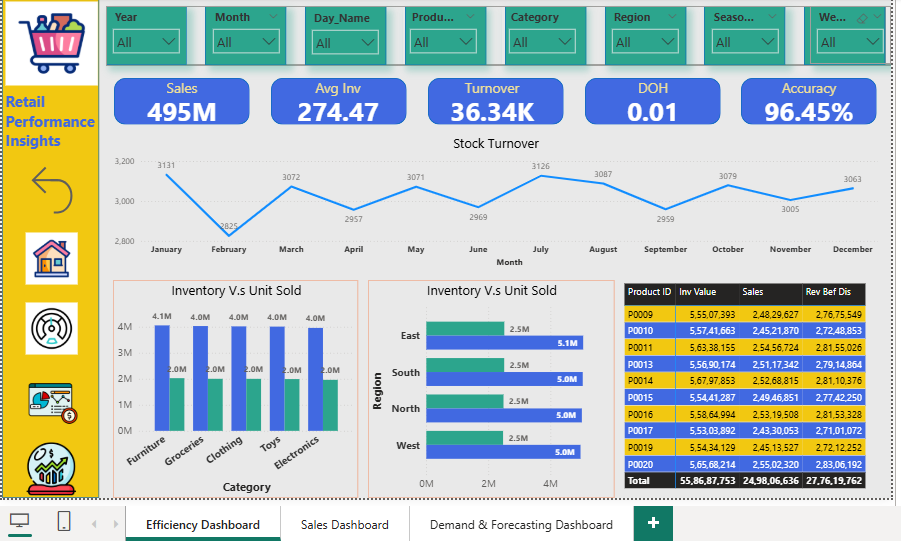

Layout of this report page (visuals, bound fields, positions):
{"tool":"powerbi","page":{"name":"Efficiency Dashboard","canvas":[1280,720],"ordinal":0},"visuals":[{"type":"shape","box":[0,0,139.9,720],"z":0,"group":"g3"},{"type":"shape","box":[149.4,11.6,116.2,84.6],"z":0,"group":"g4"},{"type":"group","id":"g1","title":"KPI-E","box":[161.2,115.2,1098.8,67.7],"z":0},{"type":"card","title":"Sales","fields":{"Values":["Measure_Table.Total Sales"]},"box":[161.2,115.2,195.8,67.7],"z":0,"group":"g6"},{"type":"shape","box":[161.2,115.6,195.5,67.1],"z":0,"group":"g5"},{"type":"shape","box":[292.4,11.7,117,85.2],"z":1000,"group":"g4"},{"type":"card","title":"Avg Inv","fields":{"Values":["Measure_Table.Average Inventory Level"]},"box":[385.8,115.2,195.8,67.7],"z":1000,"group":"g6"},{"type":"shape","box":[386.7,115.6,195.5,67.1],"z":1000,"group":"g5"},{"type":"lineChart","title":"Stock Turnover","fields":{"Category":["Calender.Date.Variation.Date Hierarchy.Month"],"Y":["Measure_Table.Stock Turnover"]},"box":[156.4,195.5,1109.1,196.9],"z":1000},{"type":"image","box":[0,332.2,142.2,84.9],"z":1000,"group":"g3"},{"type":"shape","box":[436.2,11.7,117,85.2],"z":2000,"group":"g4"},{"type":"card","title":"Turnover","fields":{"Values":["Measure_Table.Stock Turnover Ratio"]},"box":[607.6,115.2,195.8,67.7],"z":2000,"group":"g6"},{"type":"shape","box":[613.6,115.6,195.5,67.1],"z":2000,"group":"g5"},{"type":"textbox","box":[0,130.2,143.8,104.9],"z":2000,"group":"g3"},{"type":"clusteredColumnChart","title":"Inventory V.s Unit Sold","fields":{"Category":["retail_store_inventory.Category"],"Y":["Sum(retail_store_inventory.Inventory Level)","Sum(retail_store_inventory.Units Sold)"]},"box":[159.3,405.4,353.3,314.2],"z":2000},{"type":"image","box":[0,0,142.9,131.2],"z":3000,"group":"g3"},{"type":"shape","box":[579.9,11.7,117,85.2],"z":3000,"group":"g4"},{"type":"card","title":"DOH","fields":{"Values":["Measure_Table.Days of Inventory on Hand"]},"box":[839.4,115.2,195.8,67.7],"z":3000,"group":"g6"},{"type":"shape","box":[839,115.6,195.5,67.1],"z":3000,"group":"g5"},{"type":"clusteredBarChart","title":"Inventory V.s Unit Sold","fields":{"Category":["retail_store_inventory.Region"],"Y":["Sum(retail_store_inventory.Units Sold)","Sum(retail_store_inventory.Inventory Level)"]},"box":[527.1,405.4,354.8,314.2],"z":3000},{"type":"shape","box":[723.7,11.7,117,85.2],"z":4000,"group":"g4"},{"type":"card","title":"Accuracy","fields":{"Values":["Measure_Table.Forecast Accuracy"]},"box":[1064.1,115.2,195.8,67.7],"z":4000,"group":"g6"},{"type":"shape","box":[1064.5,115.6,195.5,67.1],"z":4000,"group":"g5"},{"type":"pivotTable","fields":{"Rows":["retail_store_inventory.Product ID"],"Values":["Measure_Table.Inventory Value","Measure_Table.Total Sales","Measure_Table.Revenue Before Discount"]},"box":[891.9,405.4,369.2,314.2],"z":4000},{"type":"image","box":[0,634.5,142.9,85.5],"z":4000,"group":"g3"},{"type":"group","id":"g2","title":"Slicer-S","box":[149.1,11.6,1130.9,85.4],"z":5000},{"type":"shape","box":[867.5,11.7,117,85.2],"z":5000,"group":"g4"},{"type":"image","box":[0,541.8,147.2,84.9],"z":5000,"group":"g3"},{"type":"group","id":"g3","title":"Side Bar-S","box":[0,0,171.5,720],"z":6000},{"type":"shape","box":[1011.2,11.7,117,85.2],"z":6000,"group":"g4"},{"type":"image","box":[0,433.4,142.2,84.9],"z":6000,"group":"g3"},{"type":"group","id":"g4","title":"Slicer-Shape-S","box":[149.4,11.6,1122.7,85.8],"z":7000,"group":"g2"},{"type":"shape","box":[1155,11.7,117,85.2],"z":7000,"group":"g4"},{"type":"group","id":"g5","title":"KPI-Shape-E","box":[161.2,115.6,1098.8,67.1],"z":7000,"group":"g1"},{"type":"actionButton","box":[30,235.2,141.5,84.1],"z":7000,"group":"g3"},{"type":"slicer","fields":{"Values":["Calender.Year"]},"box":[149.1,11.6,115.6,84.2],"z":8000,"group":"g7"},{"type":"group","id":"g6","title":"KPI-Card-E","box":[161.2,115.2,1098.7,67.7],"z":8000,"group":"g1"},{"type":"slicer","fields":{"Values":["Calender.Day_Name"]},"box":[435.5,13.4,116.2,84],"z":9000,"group":"g7"},{"type":"slicer","fields":{"Values":["Calender.Month"]},"box":[292.5,11.6,116.2,84],"z":10000,"group":"g7"},{"type":"slicer","fields":{"Values":["retail_store_inventory.Weather Condition"]},"box":[1163.1,11.6,116.2,84],"z":11000,"group":"g7"},{"type":"slicer","fields":{"Values":["retail_store_inventory.Product ID"]},"box":[576.7,11.6,116.2,84],"z":12000,"group":"g7"},{"type":"slicer","fields":{"Values":["retail_store_inventory.Category"]},"box":[719.7,11.6,116.2,84],"z":13000,"group":"g7"},{"type":"slicer","fields":{"Values":["retail_store_inventory.Region"]},"box":[868.1,11.6,116.2,84],"z":14000,"group":"g7"},{"type":"slicer","fields":{"Values":["retail_store_inventory.Seasonality"]},"box":[1011.1,11.6,116.2,84],"z":15000,"group":"g7"},{"type":"group","id":"g7","title":"Slicer-Slicer-S","box":[149.1,11.6,1130.2,85.8],"z":15001,"group":"g2"}]}

Visuals, with their boxes on the page's 1280x720 design canvas (x1, y1, x2, y2). These are canvas units, not pixel positions in the 901x541 screenshot, which may show the page scaled, cropped or inside an application window:
shape: l=0, t=0, r=140, b=720
shape: l=149, t=12, r=266, b=96
"KPI-E" group: l=161, t=115, r=1260, b=183
"Sales" card: l=161, t=115, r=357, b=183
shape: l=161, t=116, r=357, b=183
shape: l=292, t=12, r=409, b=97
"Avg Inv" card: l=386, t=115, r=582, b=183
shape: l=387, t=116, r=582, b=183
"Stock Turnover" lineChart: l=156, t=196, r=1266, b=392
image: l=0, t=332, r=142, b=417
shape: l=436, t=12, r=553, b=97
"Turnover" card: l=608, t=115, r=803, b=183
shape: l=614, t=116, r=809, b=183
textbox: l=0, t=130, r=144, b=235
"Inventory V.s Unit Sold" clusteredColumnChart: l=159, t=405, r=513, b=720
image: l=0, t=0, r=143, b=131
shape: l=580, t=12, r=697, b=97
"DOH" card: l=839, t=115, r=1035, b=183
shape: l=839, t=116, r=1034, b=183
"Inventory V.s Unit Sold" clusteredBarChart: l=527, t=405, r=882, b=720
shape: l=724, t=12, r=841, b=97
"Accuracy" card: l=1064, t=115, r=1260, b=183
shape: l=1064, t=116, r=1260, b=183
pivotTable - retail_store_inventory.Product ID x Measure_Table.Inventory Value: l=892, t=405, r=1261, b=720
image: l=0, t=634, r=143, b=720
"Slicer-S" group: l=149, t=12, r=1280, b=97
shape: l=868, t=12, r=984, b=97
image: l=0, t=542, r=147, b=627
"Side Bar-S" group: l=0, t=0, r=172, b=720
shape: l=1011, t=12, r=1128, b=97
image: l=0, t=433, r=142, b=518
"Slicer-Shape-S" group: l=149, t=12, r=1272, b=97
shape: l=1155, t=12, r=1272, b=97
"KPI-Shape-E" group: l=161, t=116, r=1260, b=183
actionButton: l=30, t=235, r=172, b=319
slicer - Calender.Year: l=149, t=12, r=265, b=96
"KPI-Card-E" group: l=161, t=115, r=1260, b=183
slicer - Calender.Day_Name: l=436, t=13, r=552, b=97
slicer - Calender.Month: l=292, t=12, r=409, b=96
slicer - retail_store_inventory.Weather Condition: l=1163, t=12, r=1279, b=96
slicer - retail_store_inventory.Product ID: l=577, t=12, r=693, b=96
slicer - retail_store_inventory.Category: l=720, t=12, r=836, b=96
slicer - retail_store_inventory.Region: l=868, t=12, r=984, b=96
slicer - retail_store_inventory.Seasonality: l=1011, t=12, r=1127, b=96
"Slicer-Slicer-S" group: l=149, t=12, r=1279, b=97
